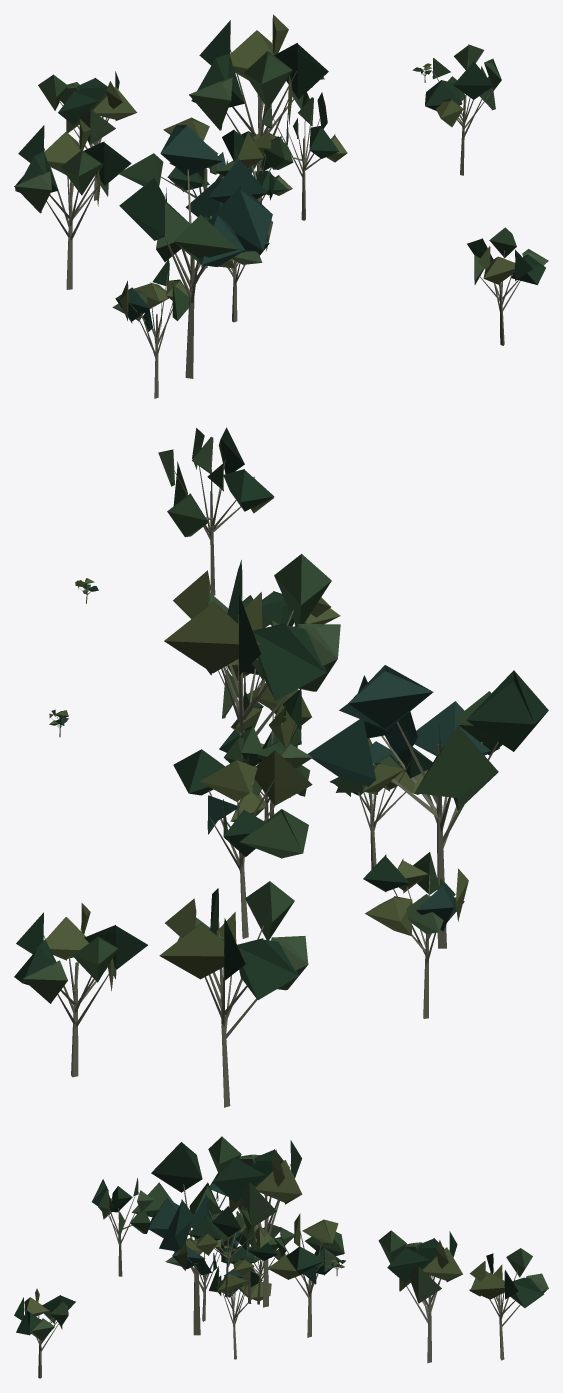
File: forest_18_20.dae
3 renders of one model, top to bottom at view 1: azimuth 30°, elevation 25°; view 2: azimuth 150°, elevation 25°; view 3: azimuth 270°, elevation 25°, orthographic. The views are drawn at different scales.
Visible parts, largest first — view 1: Node; view 2: Node; view 3: Node.
Boxes of the visible parts, bbox=[...] form: Node: bbox=[14, 14, 548, 398]; Node: bbox=[14, 427, 548, 1107]; Node: bbox=[14, 1136, 548, 1378].
Size of the model in its own units: 6.02 by 10.27 by 5.78.
